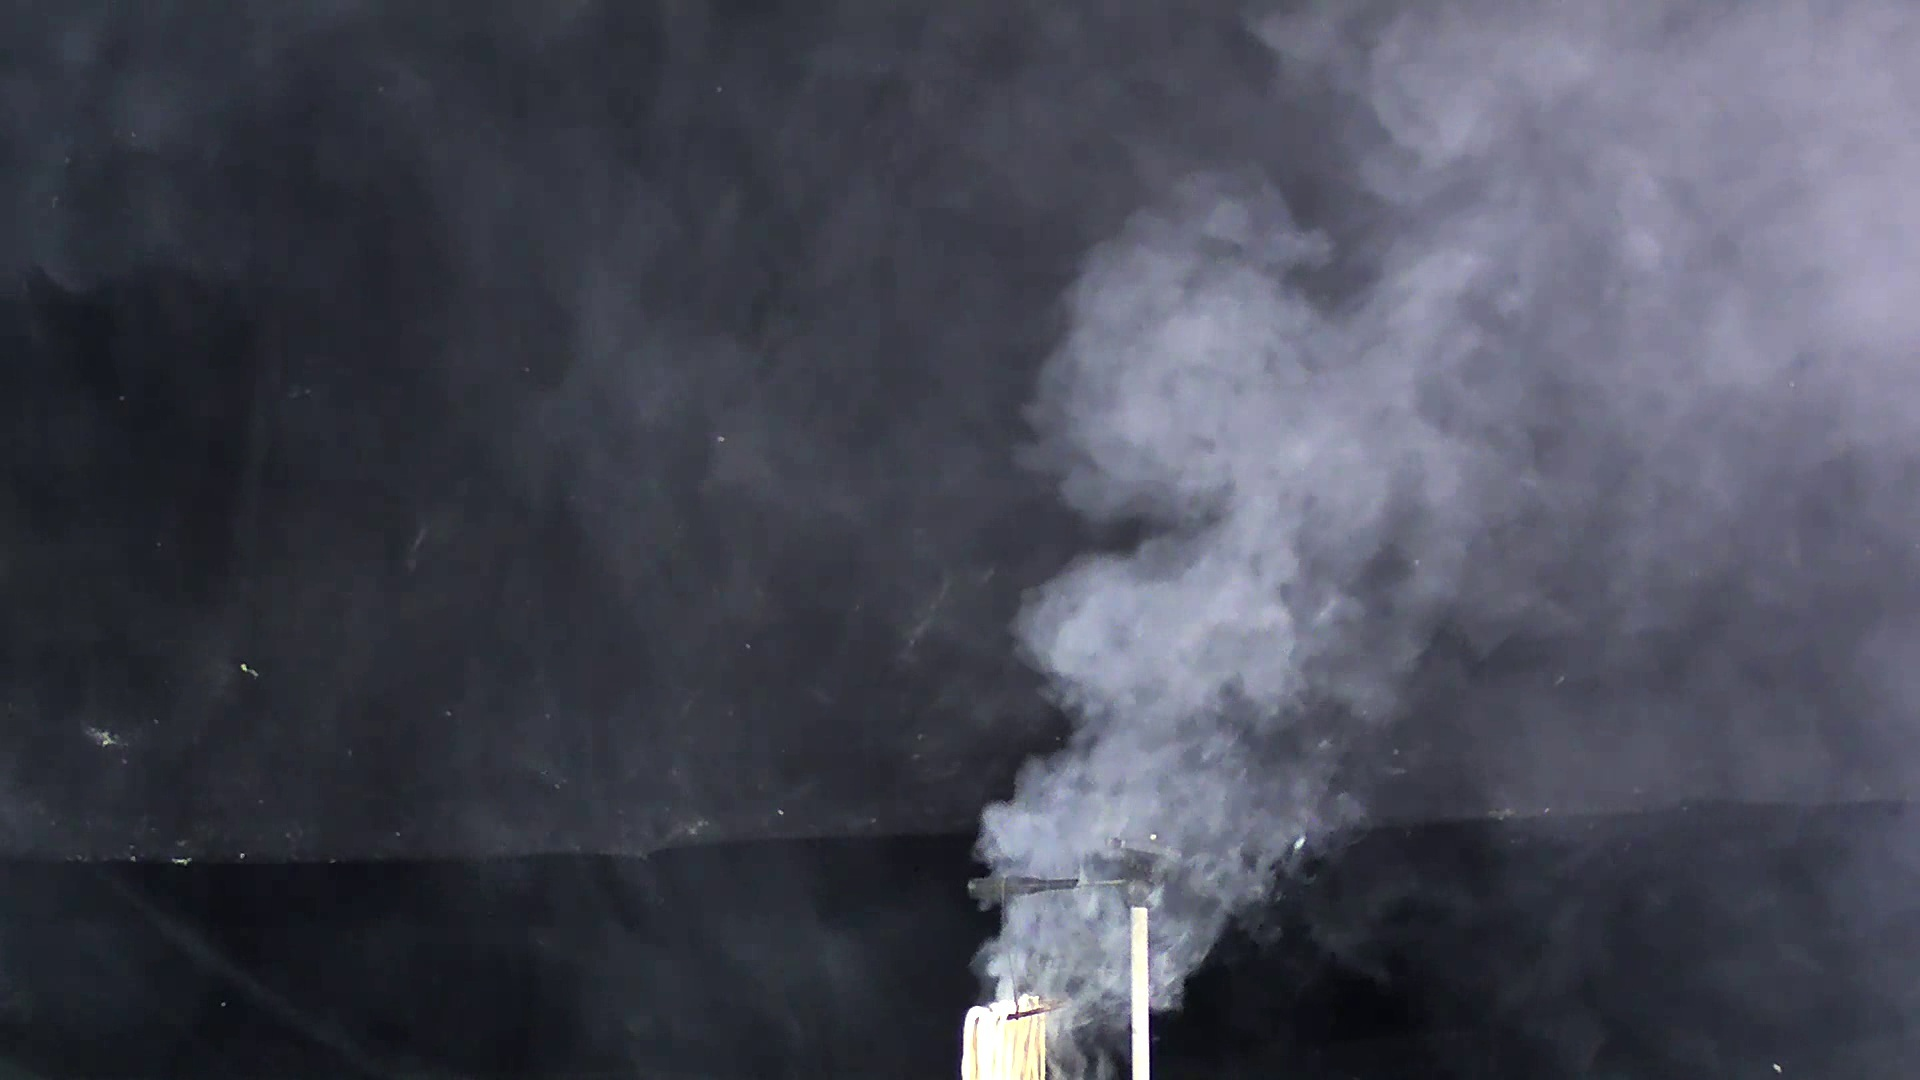smoke: (915, 99, 1644, 986)
